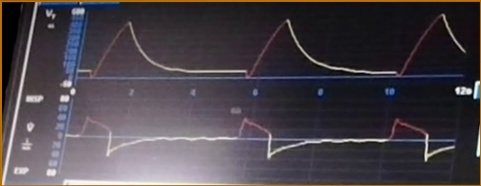Flow: (70, 113, 455, 177)
Leakage Volume: (84, 13, 470, 84)
